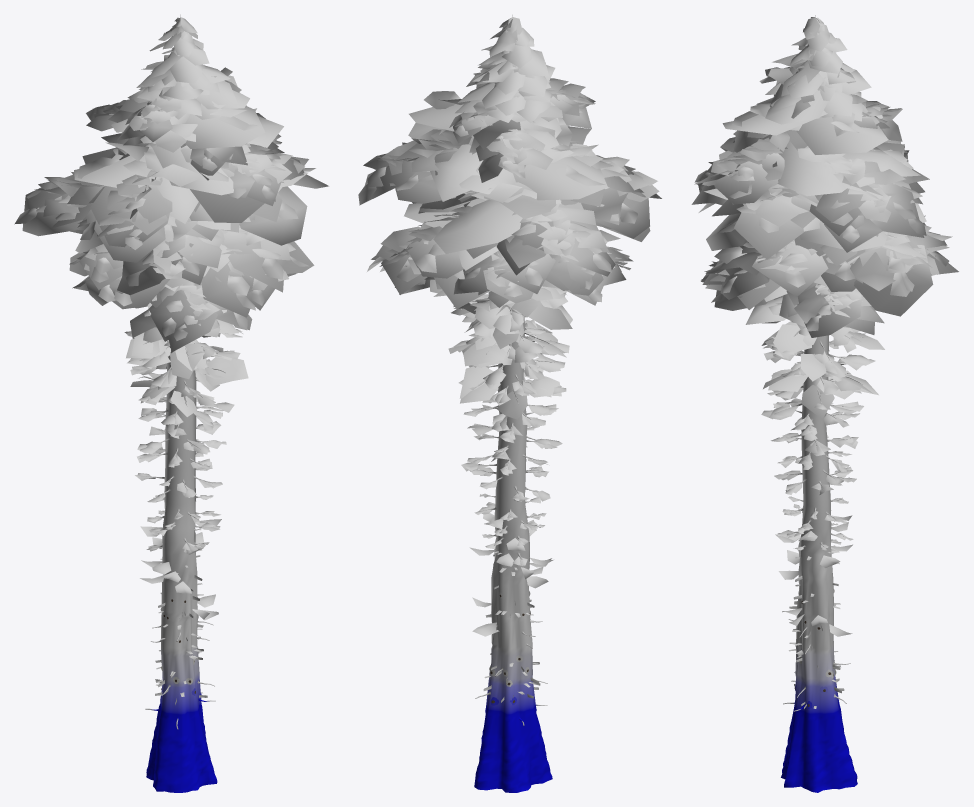
Rendered from Redwood3_LOD0.fbx.
The picture shows the model from 3 angles, left to right: view 1: azimuth 30°, elevation 25°; view 2: azimuth 150°, elevation 25°; view 3: azimuth 270°, elevation 25°; orthographic projection.
Visible parts, largest first — view 1: polySurface1544; view 2: polySurface1544; view 3: polySurface1544.
Boxes of the visible parts, box(x1,y1,x2,y2) form: polySurface1544: box(14, 14, 328, 792); polySurface1544: box(358, 15, 661, 792); polySurface1544: box(691, 15, 958, 792).
Bounding box in the file's own units: 652 × 1847 × 587.
